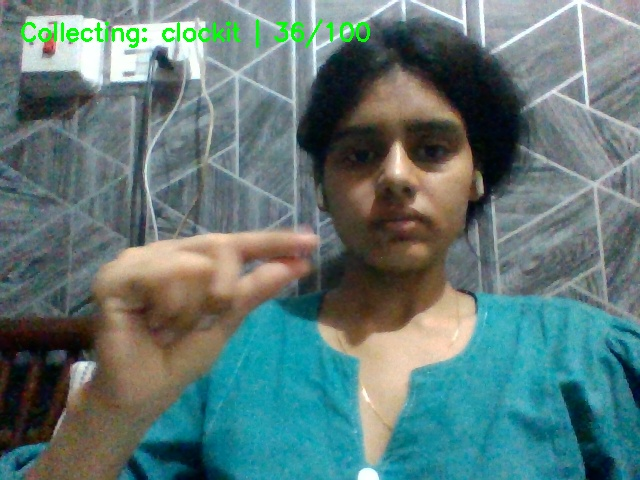clockit: (90, 197, 351, 399)
